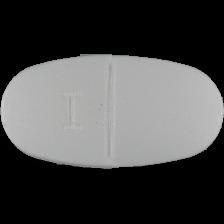10544-253: (0, 0, 224, 224)
